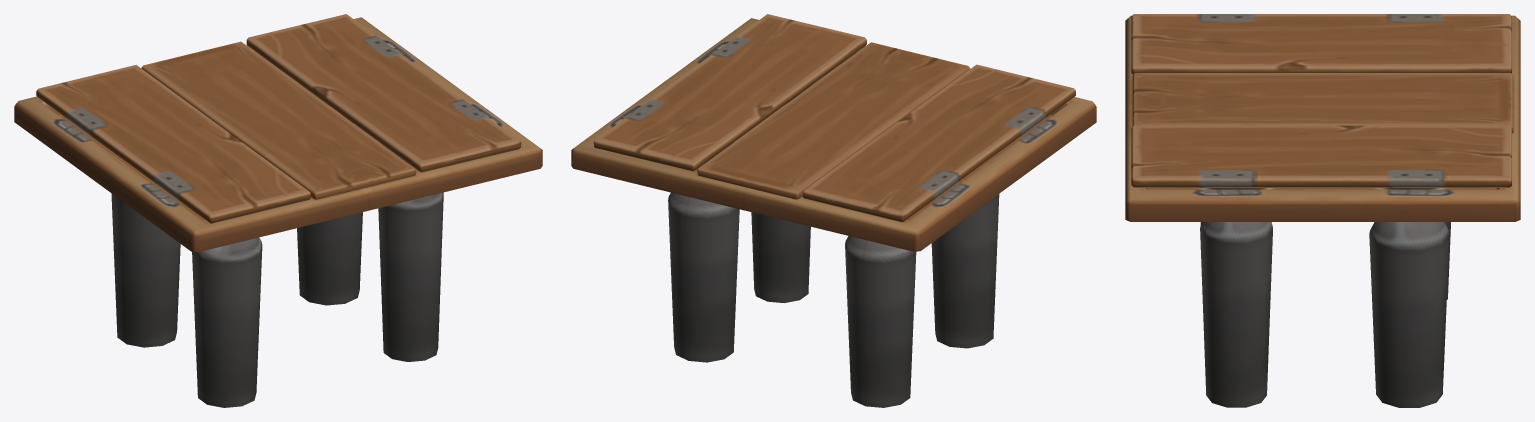
File: Trap.fbx
The picture shows the model from 3 angles, left to right: view 1: azimuth 30°, elevation 25°; view 2: azimuth 150°, elevation 25°; view 3: azimuth 270°, elevation 25°; orthographic projection. The views are drawn at different scales.
Parts seen in each view (by area): view 1: Trap_3_mesh, Trap_1_mesh, Trap_0_mesh, Trap_2_mesh; view 2: Trap_3_mesh, Trap_1_mesh, Trap_0_mesh, Trap_2_mesh; view 3: Trap_3_mesh, Trap_1_mesh, Trap_2_mesh, Trap_0_mesh.
Boxes of the visible parts, box(x1,y1,x2,y2) form: Trap_3_mesh: box(14, 17, 542, 252); Trap_1_mesh: box(111, 192, 443, 407); Trap_0_mesh: box(36, 65, 310, 223); Trap_2_mesh: box(246, 14, 521, 172); Trap_3_mesh: box(571, 18, 1096, 251); Trap_1_mesh: box(668, 192, 999, 407); Trap_0_mesh: box(803, 64, 1075, 222); Trap_2_mesh: box(593, 14, 866, 171); Trap_3_mesh: box(1125, 15, 1520, 221); Trap_1_mesh: box(1200, 222, 1450, 407); Trap_2_mesh: box(1131, 125, 1511, 187); Trap_0_mesh: box(1131, 14, 1511, 74).
Bounding box in the file's own units: 6.9 × 4.32 × 6.18.
